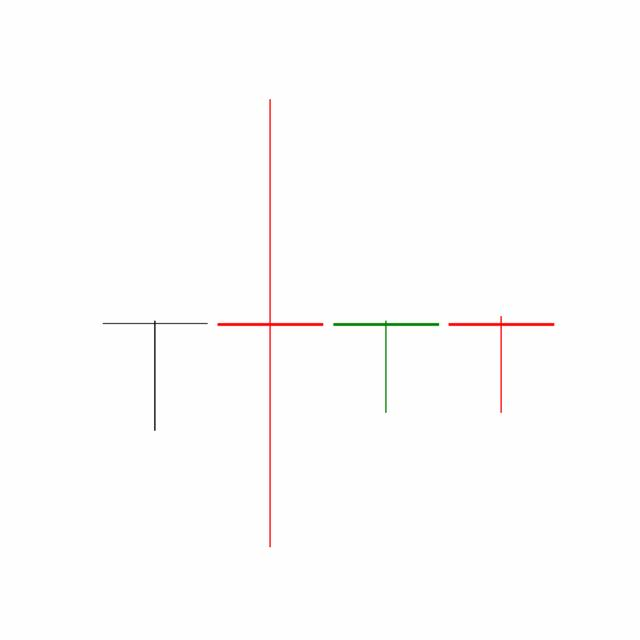Dragonfly Doji: (443, 315, 559, 415)
